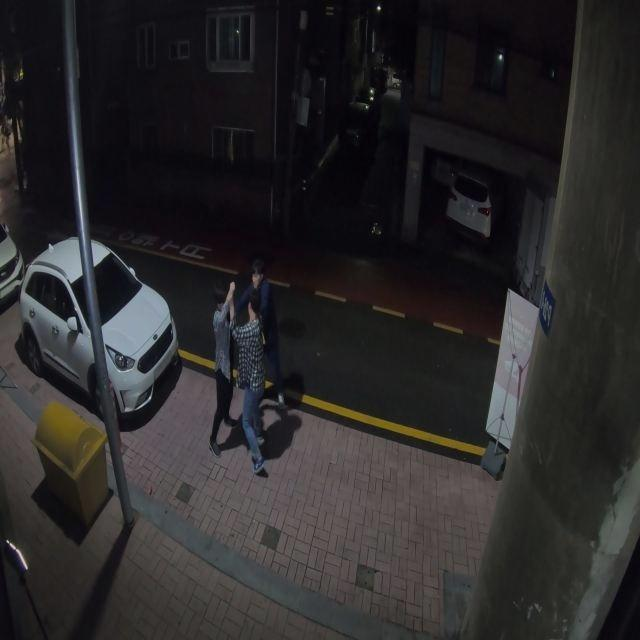fight: (203, 268, 277, 477)
